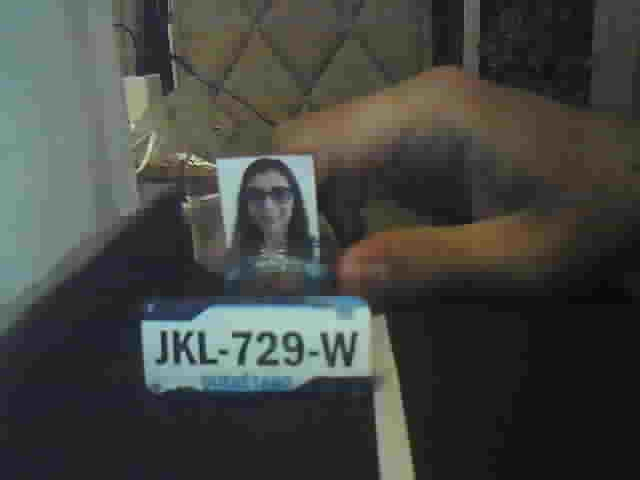PLACA: (138, 294, 375, 396)
ROSTRO: (226, 159, 321, 266)
